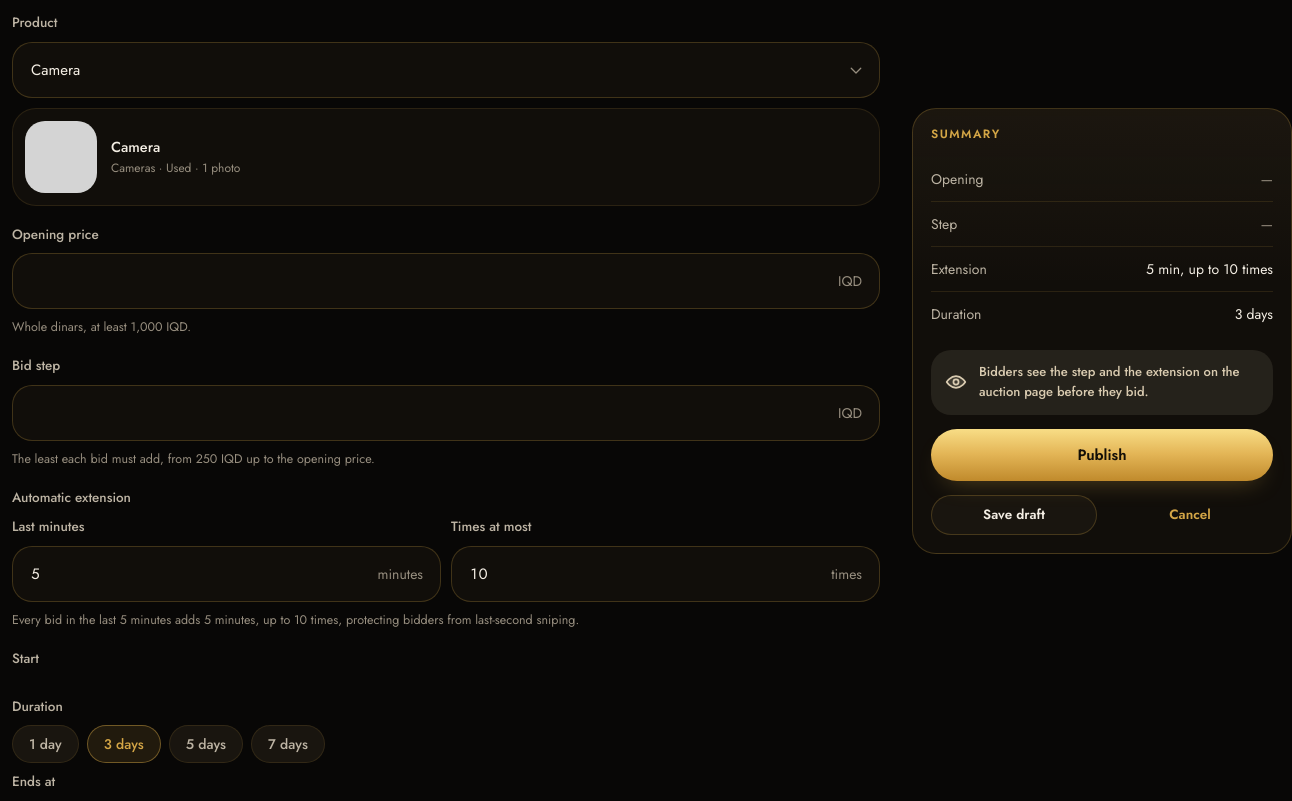
Test: AuctionForm: the seller sets the step and the extension › checks the step and the extension with the API bounds
Type "1000" into the field with test id "auction-startingPrice".
click(446, 281); type("1000")  # box left=12, top=253, right=880, bottom=309
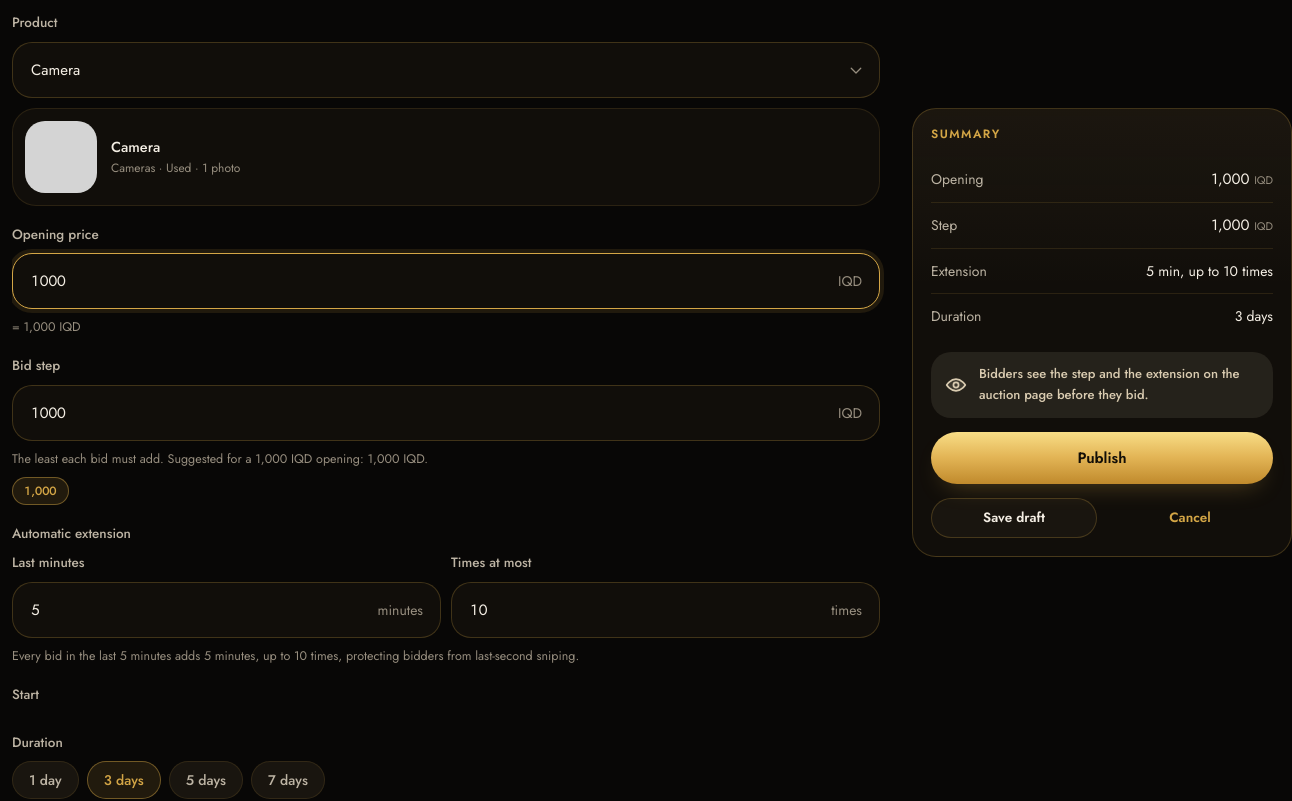
Replace the text in the field with test id "auction-minIncrement" with "2000" at [446, 413], box left=12, top=385, right=880, bottom=441
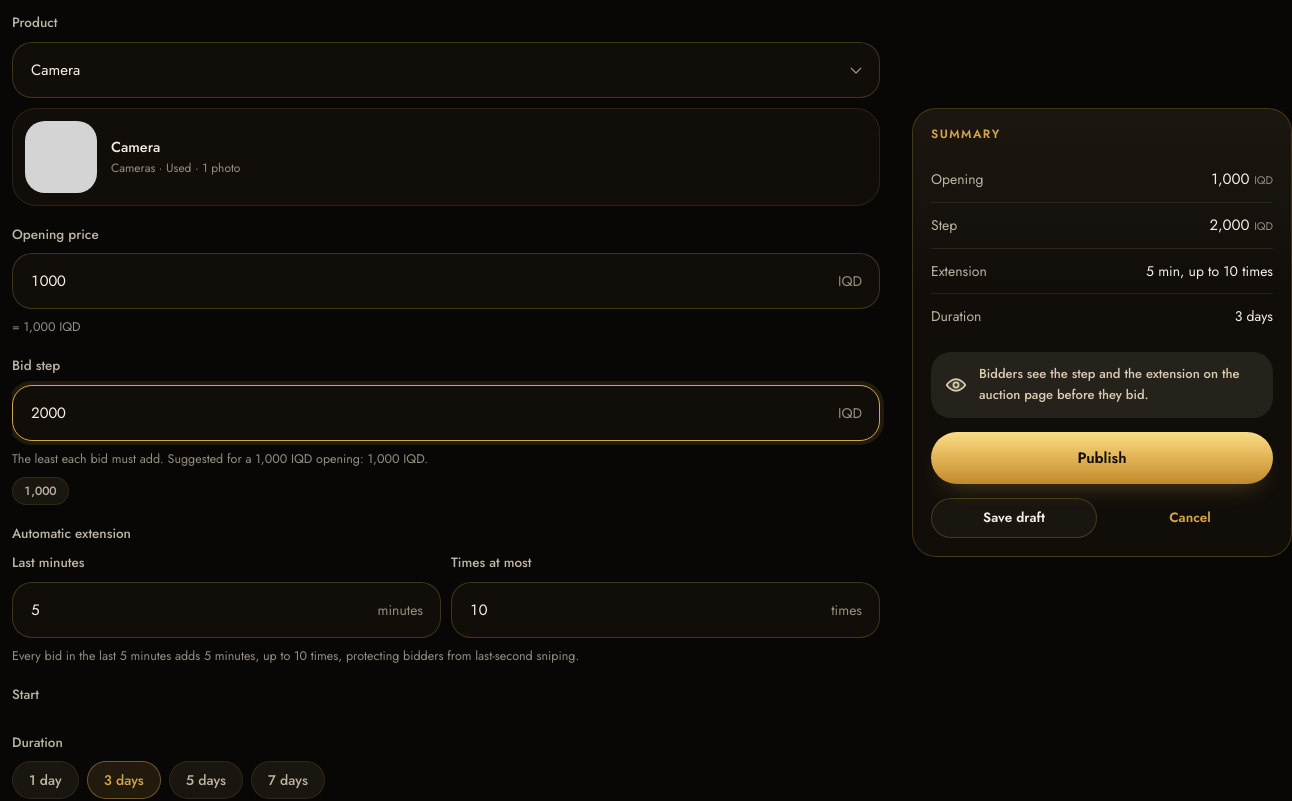
Replace the text in the field with test id "auction-antiSnipingMinutes" with "11" at [226, 610], box left=12, top=582, right=441, bottom=638
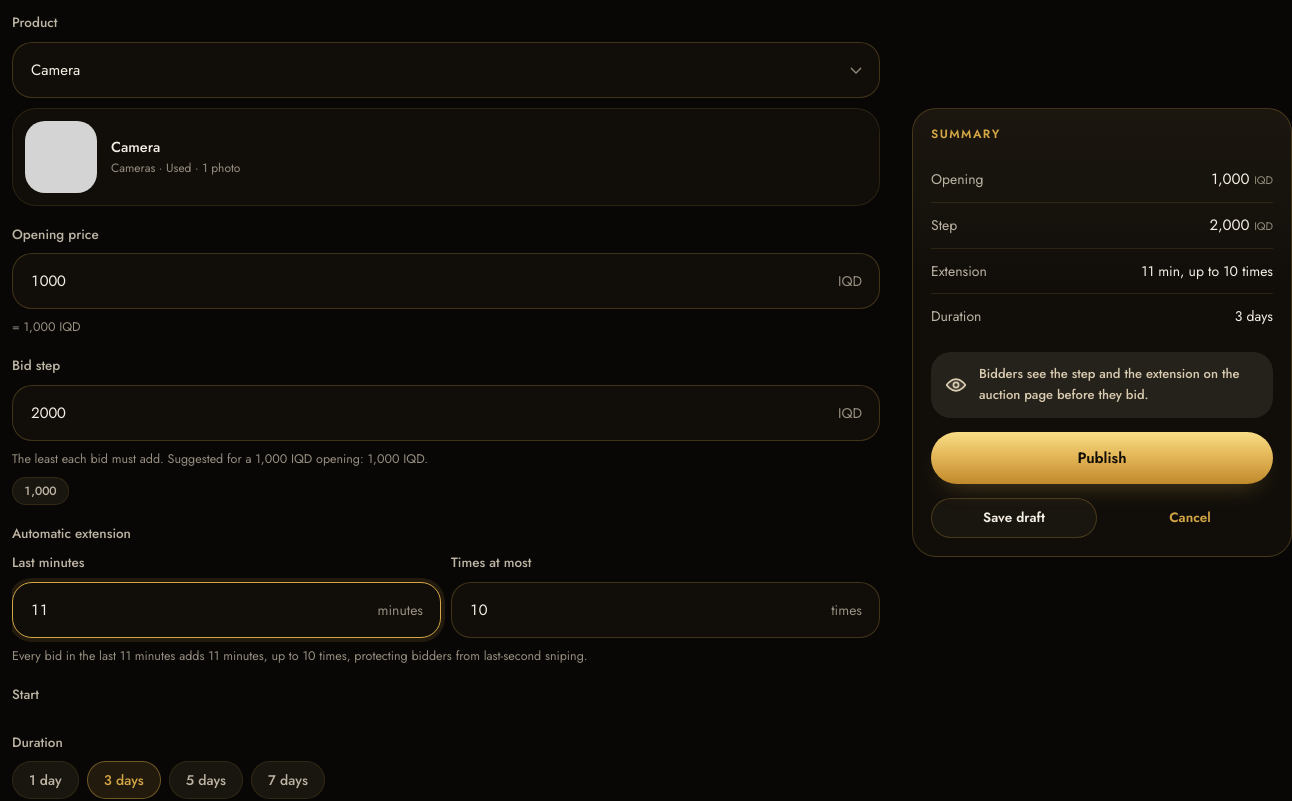
Click the button with test id "auction-save-draft".
click(1014, 518)  # box left=931, top=498, right=1097, bottom=538
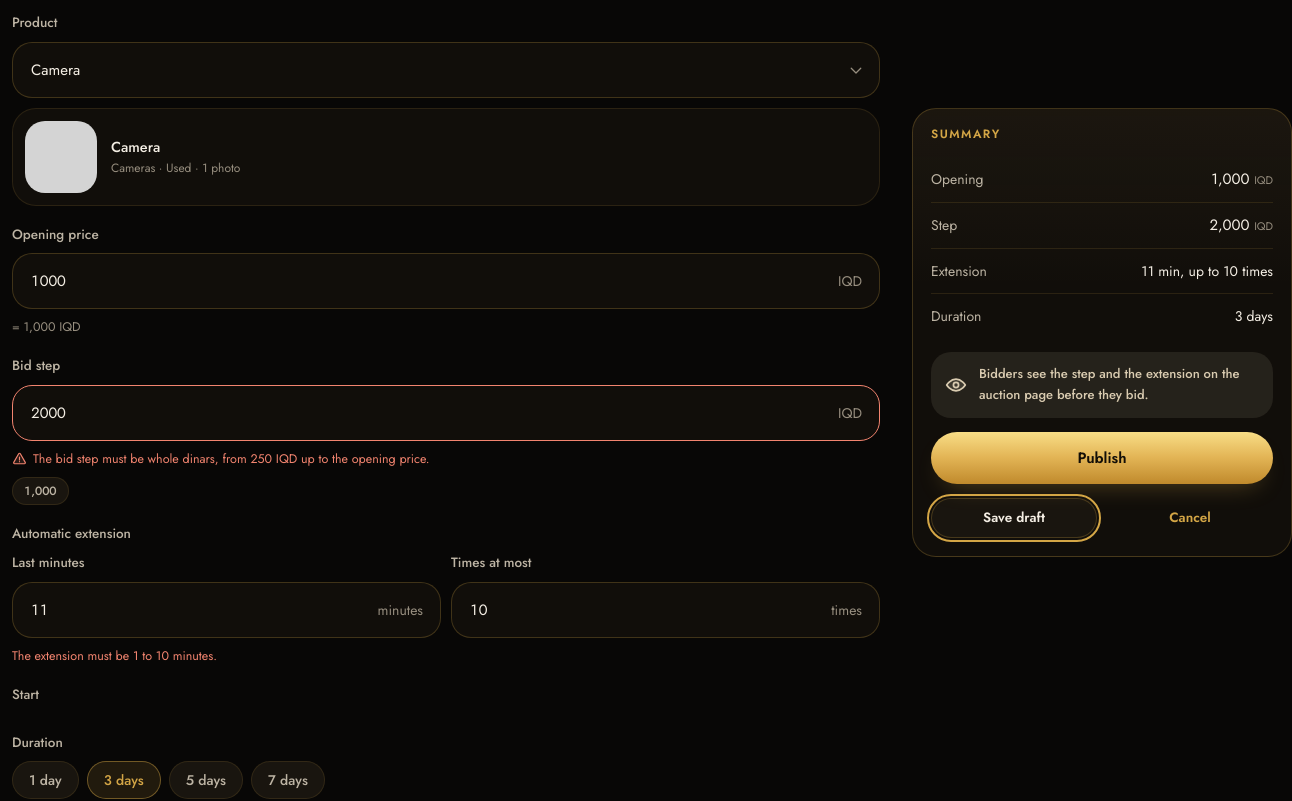
Result: the text "The bid step must be whole dinars, from 250 IQD up to the opening price." is shown at left=12, top=450, right=430, bottom=468
Result: the text "The extension must be 1 to 10 minutes." is shown at left=12, top=647, right=217, bottom=665
